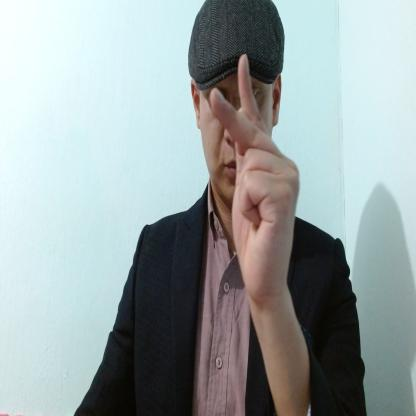P: (209, 49, 300, 306)
